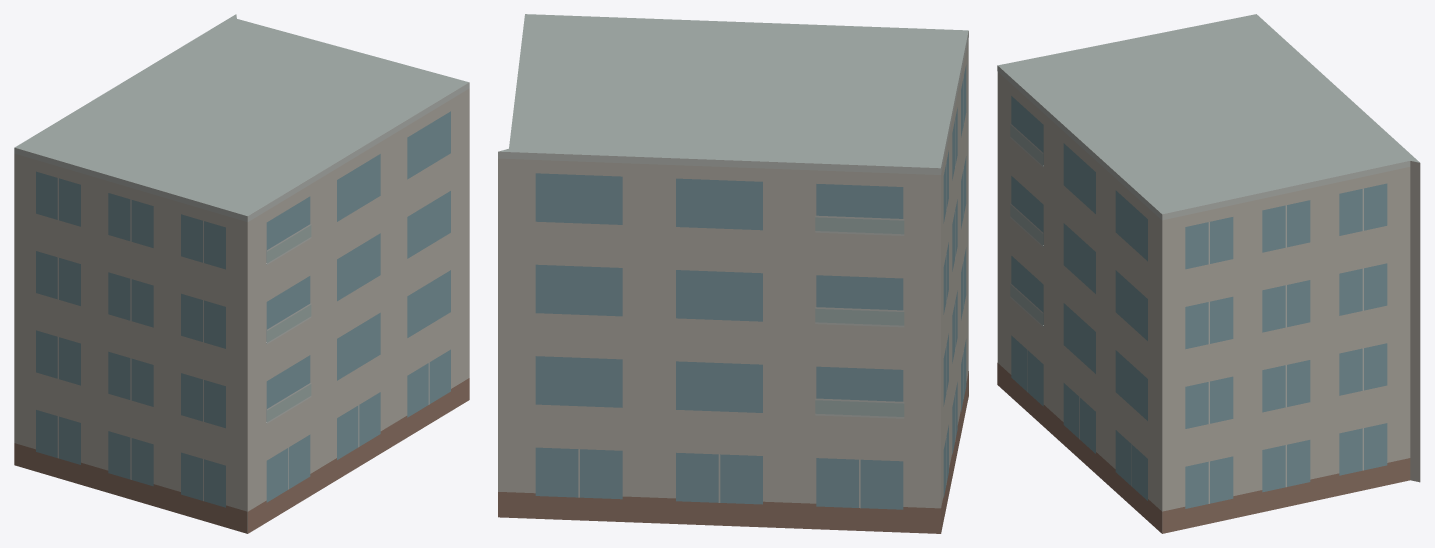
Rendered from survey-upis-32746463.glb.
3 views of the same model, side by side, from view 1: azimuth 30°, elevation 25°; view 2: azimuth 150°, elevation 25°; view 3: azimuth 270°, elevation 25° (orthographic). The views are drawn at different scales.
Parts seen in each view (by area): view 1: survey-upis-32746463.tmp; view 2: survey-upis-32746463.tmp; view 3: survey-upis-32746463.tmp.
Part boxes in pixels (x1,y1,x2,y2): survey-upis-32746463.tmp: (14, 14, 469, 533); survey-upis-32746463.tmp: (498, 14, 968, 533); survey-upis-32746463.tmp: (997, 14, 1420, 533).
Bounding box in the file's own units: 17.49 × 13 × 15.6.
